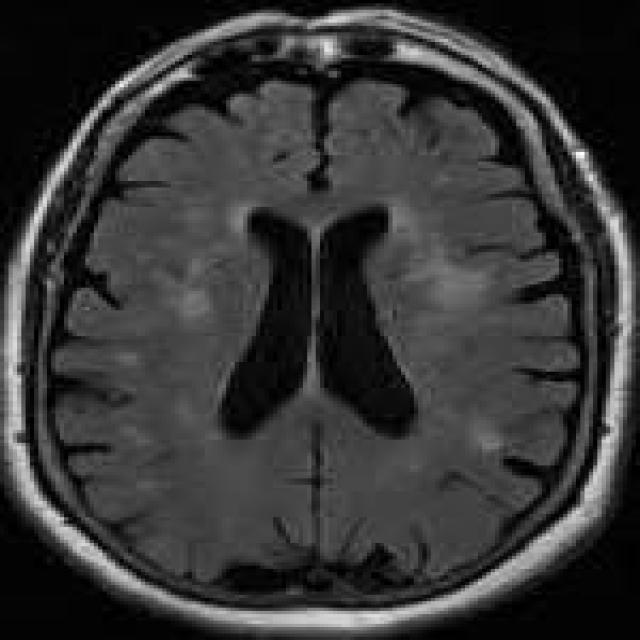notumor: (4, 10, 627, 630)
